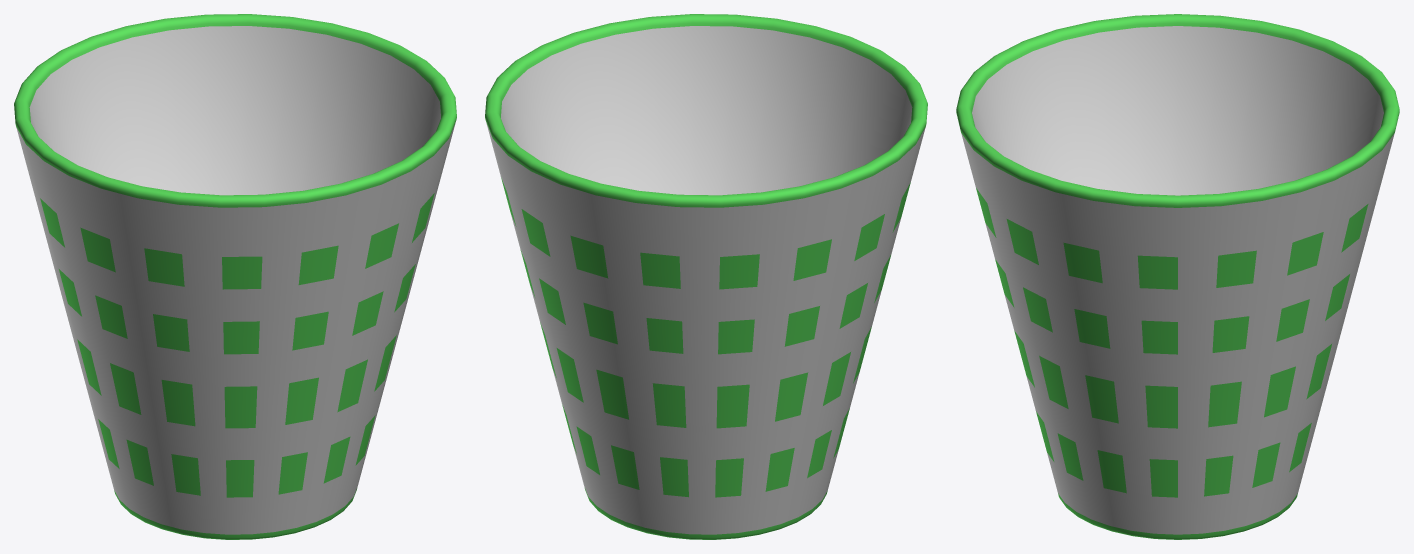
The model's file is Bin.fbx.
3 views of the same model, side by side, from view 1: azimuth 30°, elevation 25°; view 2: azimuth 150°, elevation 25°; view 3: azimuth 270°, elevation 25° (orthographic).
Visible parts, largest first — view 1: Cylinder; view 2: Cylinder; view 3: Cylinder.
Boxes of the visible parts, bbox=[...] form: Cylinder: bbox=[14, 14, 456, 539]; Cylinder: bbox=[485, 14, 927, 539]; Cylinder: bbox=[956, 14, 1399, 539].
Size of the model in its own units: 199 by 190 by 199.
